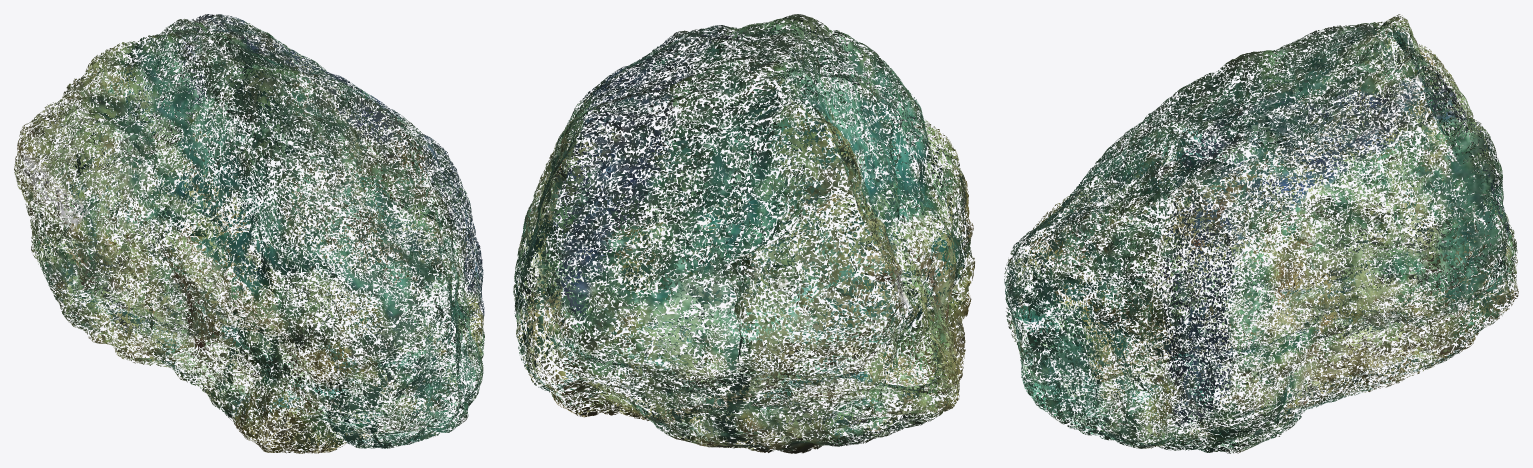
File: oro.glb
The picture shows the model from 3 angles, left to right: view 1: azimuth 30°, elevation 25°; view 2: azimuth 150°, elevation 25°; view 3: azimuth 270°, elevation 25°; orthographic projection. The views are drawn at different scales.
Visible parts, largest first — view 1: Object_19, Object_4, Object_13, Object_20, Object_5, Object_7, Object_3, Object_18, Object_12, Object_15, Object_14, Object_16 (+11 smaller); view 2: Object_23, Object_22, Object_21, Object_9, Object_8, Object_13, Object_2, Object_24, Object_10, Object_6, Object_3, Object_5 (+11 smaller); view 3: Object_6, Object_12, Object_11, Object_9, Object_10, Object_8, Object_7, Object_5, Object_24, Object_13, Object_4, Object_19 (+11 smaller).
Part boxes in pixels (x1,y1,x2,y2): Object_19: [15, 35, 244, 358]; Object_4: [148, 139, 426, 447]; Object_13: [14, 28, 477, 362]; Object_20: [18, 32, 226, 352]; Object_5: [160, 21, 423, 450]; Object_7: [196, 14, 471, 417]; Object_3: [150, 245, 480, 453]; Object_18: [48, 52, 465, 407]; Object_12: [219, 24, 477, 343]; Object_15: [46, 176, 421, 361]; Object_14: [46, 86, 351, 347]; Object_16: [46, 176, 478, 443]; Object_23: [542, 76, 892, 445]; Object_22: [527, 116, 883, 443]; Object_21: [535, 64, 922, 443]; Object_9: [553, 38, 915, 313]; Object_8: [546, 39, 898, 317]; Object_13: [514, 19, 959, 411]; Object_2: [662, 171, 971, 388]; Object_24: [514, 80, 895, 438]; Object_10: [514, 37, 916, 378]; Object_6: [564, 14, 844, 155]; Object_3: [657, 80, 974, 388]; Object_5: [560, 52, 973, 395]; Object_6: [1198, 24, 1479, 239]; Object_12: [1217, 135, 1499, 451]; Object_11: [1277, 136, 1457, 433]; Object_9: [1007, 141, 1246, 449]; Object_10: [1004, 131, 1431, 449]; Object_8: [1008, 183, 1244, 448]; Object_7: [1013, 51, 1483, 420]; Object_5: [1006, 24, 1432, 348]; Object_24: [1204, 17, 1515, 453]; Object_13: [1180, 27, 1501, 451]; Object_4: [1007, 83, 1244, 348]; Object_19: [1267, 17, 1440, 255].
Bounding box in the file's own units: 0.8477 × 0.7571 × 0.9998.
Materials: 1 (1 with a texture image).
